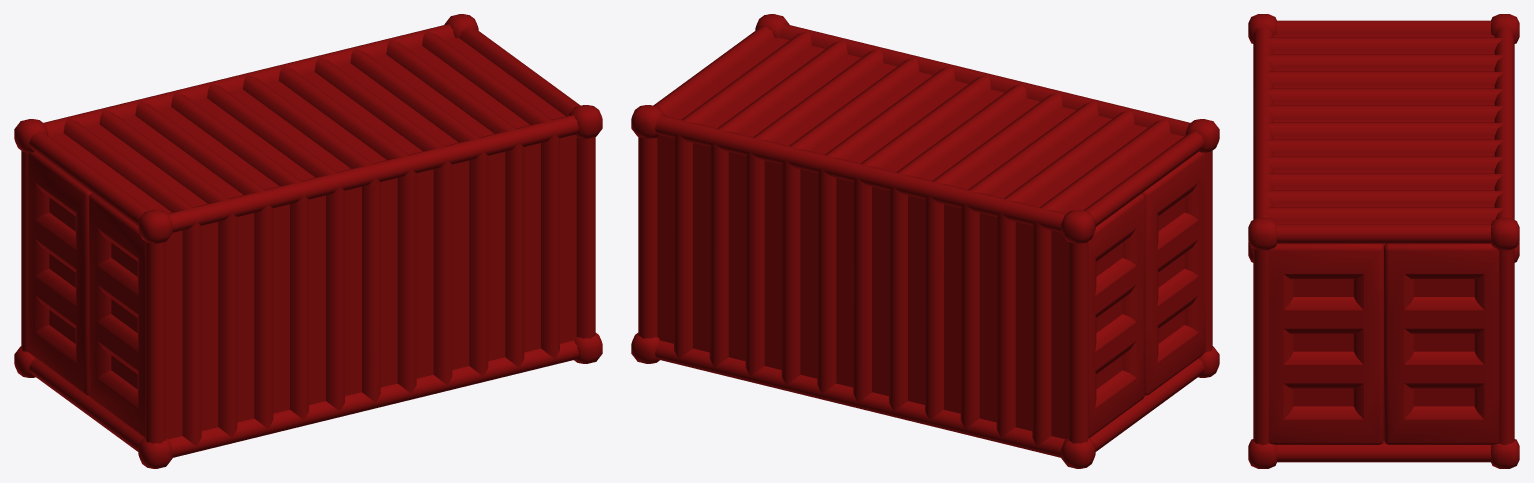
The model's file is LastLuna_Model_Object_Container.fbx.
3 renders of one model, left to right at view 1: azimuth 30°, elevation 25°; view 2: azimuth 150°, elevation 25°; view 3: azimuth 270°, elevation 25°, orthographic. The views are drawn at different scales.
Visible parts, largest first — view 1: Container001, Container_Door_Left_Front001, Container_Door_Right_Front002, Container_Door_Right_Front001; view 2: Container001, Container_Door_Left_Front001, Container_Door_Right_Front002, Container_Door_Right_Front001; view 3: Container001, Container_Door_Right_Back001, Container_Door_Left_Back001, Container_Door_Left_Back002.
Part boxes in pixels (x1,y1,x2,y2): Container001: (14,14,602,468); Container_Door_Left_Front001: (28,151,91,395); Container_Door_Right_Front002: (89,198,145,437); Container_Door_Right_Front001: (89,193,145,407); Container001: (631,14,1219,468); Container_Door_Left_Front001: (1088,193,1144,437); Container_Door_Right_Front002: (1144,154,1205,395); Container_Door_Right_Front001: (1142,151,1205,352); Container001: (1248,14,1519,468); Container_Door_Right_Back001: (1268,243,1383,444); Container_Door_Left_Back001: (1384,243,1499,444); Container_Door_Left_Back002: (1384,243,1499,442).
Bounding box in the file's own units: 638 × 338 × 338.
